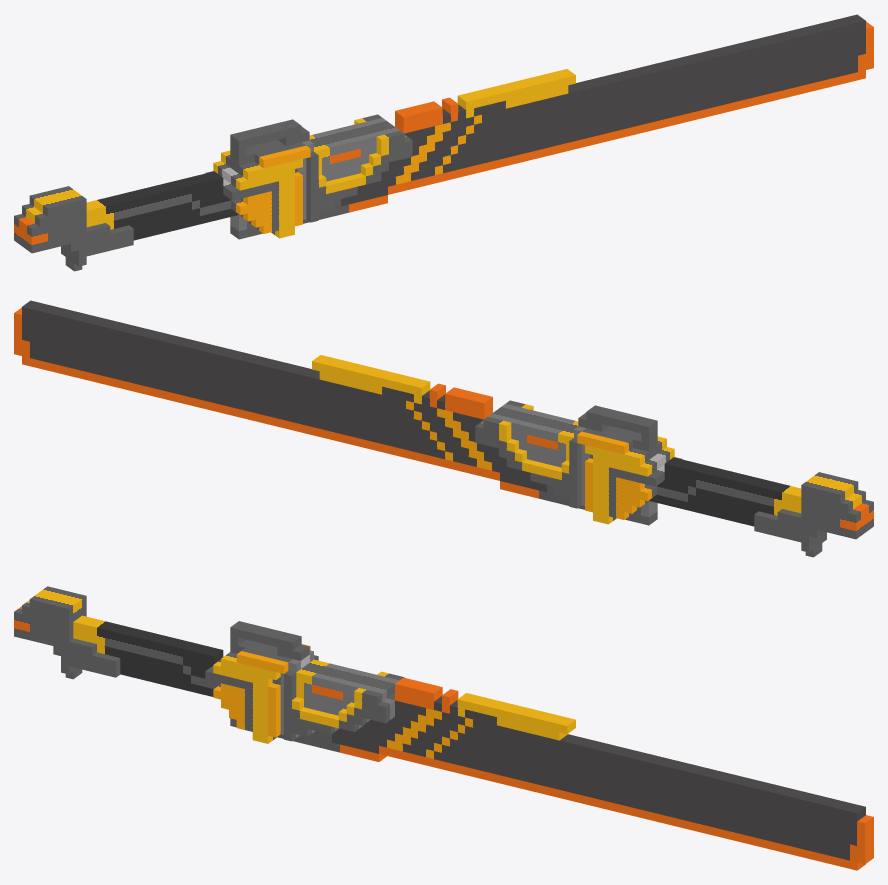
Rendered from 万界归墟.gltf.
3 renders of one model, top to bottom at view 1: azimuth 30°, elevation 25°; view 2: azimuth 150°, elevation 25°; view 3: azimuth 330°, elevation 25°, orthographic.
Visible parts, largest first — view 1: 振晶刀主体; view 2: 振晶刀主体; view 3: 振晶刀主体.
Part boxes in pixels (bbox=[...]): 振晶刀主体: bbox=[14, 14, 873, 271]; 振晶刀主体: bbox=[14, 300, 873, 557]; 振晶刀主体: bbox=[14, 586, 873, 870].
Bounding box in the file's own units: 108 × 12 × 5.94.
Materials: 1 (1 with a texture image).
